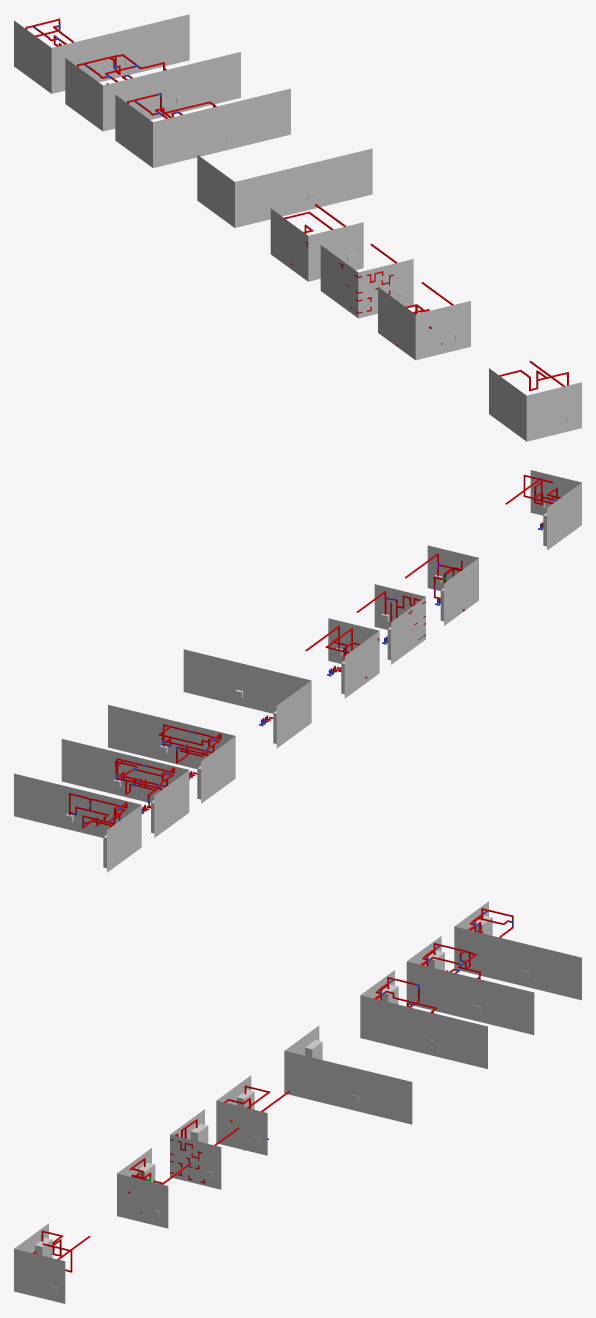
File: Iteration_tuyau 2.fbx
The picture shows the model from 3 angles, top to bottom: view 1: azimuth 30°, elevation 25°; view 2: azimuth 150°, elevation 25°; view 3: azimuth 330°, elevation 25°; orthographic projection. The views are drawn at different scales.
Parts seen in each view (by area): view 1: Plane.005, Plane.004, Plane.007, Plane.006, Plane, Plane.001, Plane.002, Plane.003; view 2: Plane.004, Plane.007, Plane.005, Plane.006, Plane.001, Plane.002, Plane.003, Plane; view 3: Plane.004, Plane.005, Plane.006, Plane.007, Plane, Plane.001, Plane.003, Plane.002.
Part boxes in pixels (left/top/right/bottom): Plane.005: left=115, top=88, right=290, bottom=167; Plane.004: left=197, top=148, right=372, bottom=227; Plane.007: left=14, top=14, right=189, bottom=93; Plane.006: left=65, top=52, right=240, bottom=131; Plane: left=489, top=368, right=581, bottom=441; Plane.001: left=378, top=287, right=470, bottom=360; Plane.002: left=320, top=245, right=413, bottom=318; Plane.003: left=270, top=208, right=363, bottom=281; Plane.004: left=183, top=649, right=311, bottom=748; Plane.007: left=14, top=773, right=141, bottom=872; Plane.005: left=108, top=705, right=235, bottom=803; Plane.006: left=61, top=739, right=189, bottom=837; Plane.001: left=427, top=545, right=478, bottom=625; Plane.002: left=374, top=584, right=425, bottom=664; Plane.003: left=328, top=618, right=379, bottom=698; Plane: left=530, top=470, right=581, bottom=550; Plane.004: left=284, top=1025, right=412, bottom=1124; Plane.005: left=360, top=970, right=487, bottom=1068; Plane.006: left=406, top=936, right=534, bottom=1034; Plane.007: left=454, top=901, right=581, bottom=1000; Plane: left=14, top=1223, right=65, bottom=1303; Plane.001: left=117, top=1148, right=168, bottom=1228; Plane.003: left=216, top=1075, right=267, bottom=1155; Plane.002: left=170, top=1109, right=221, bottom=1189.
Size of the model in its own units: 13320 by 4610 by 84623.
